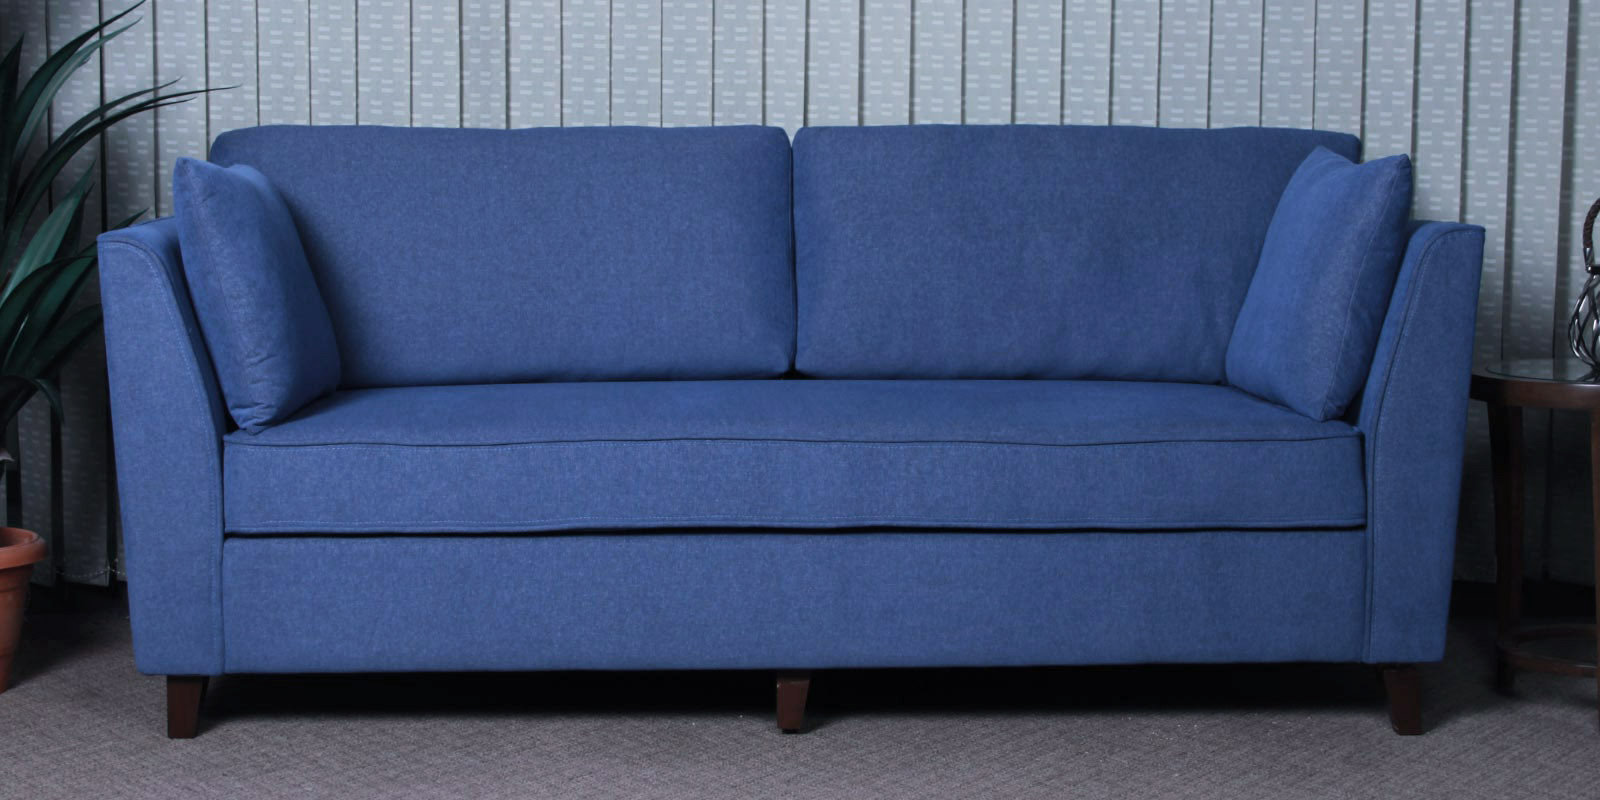Miranda Three Seater Sofa in Denim Blue Colour by CasaCraft: (93, 118, 1490, 739)
